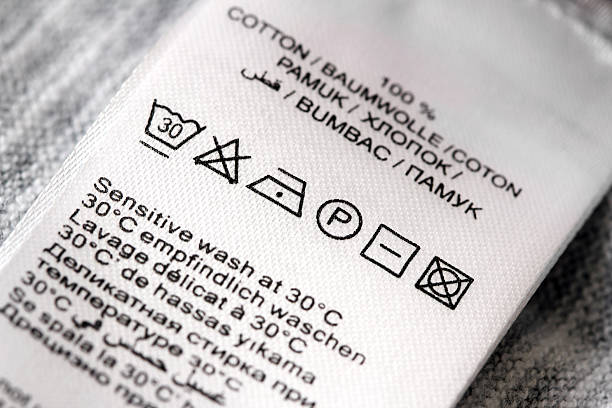ER_dry_clean_chemical: (314, 187, 366, 242)
ER_flat_dry: (350, 215, 429, 287)
ER_iron_low_temp: (236, 159, 311, 225)
ER_no_bleach: (181, 124, 265, 193)
ER_no_tumble_dry: (402, 247, 486, 317)
ER_wash_30_mild: (130, 93, 216, 168)
